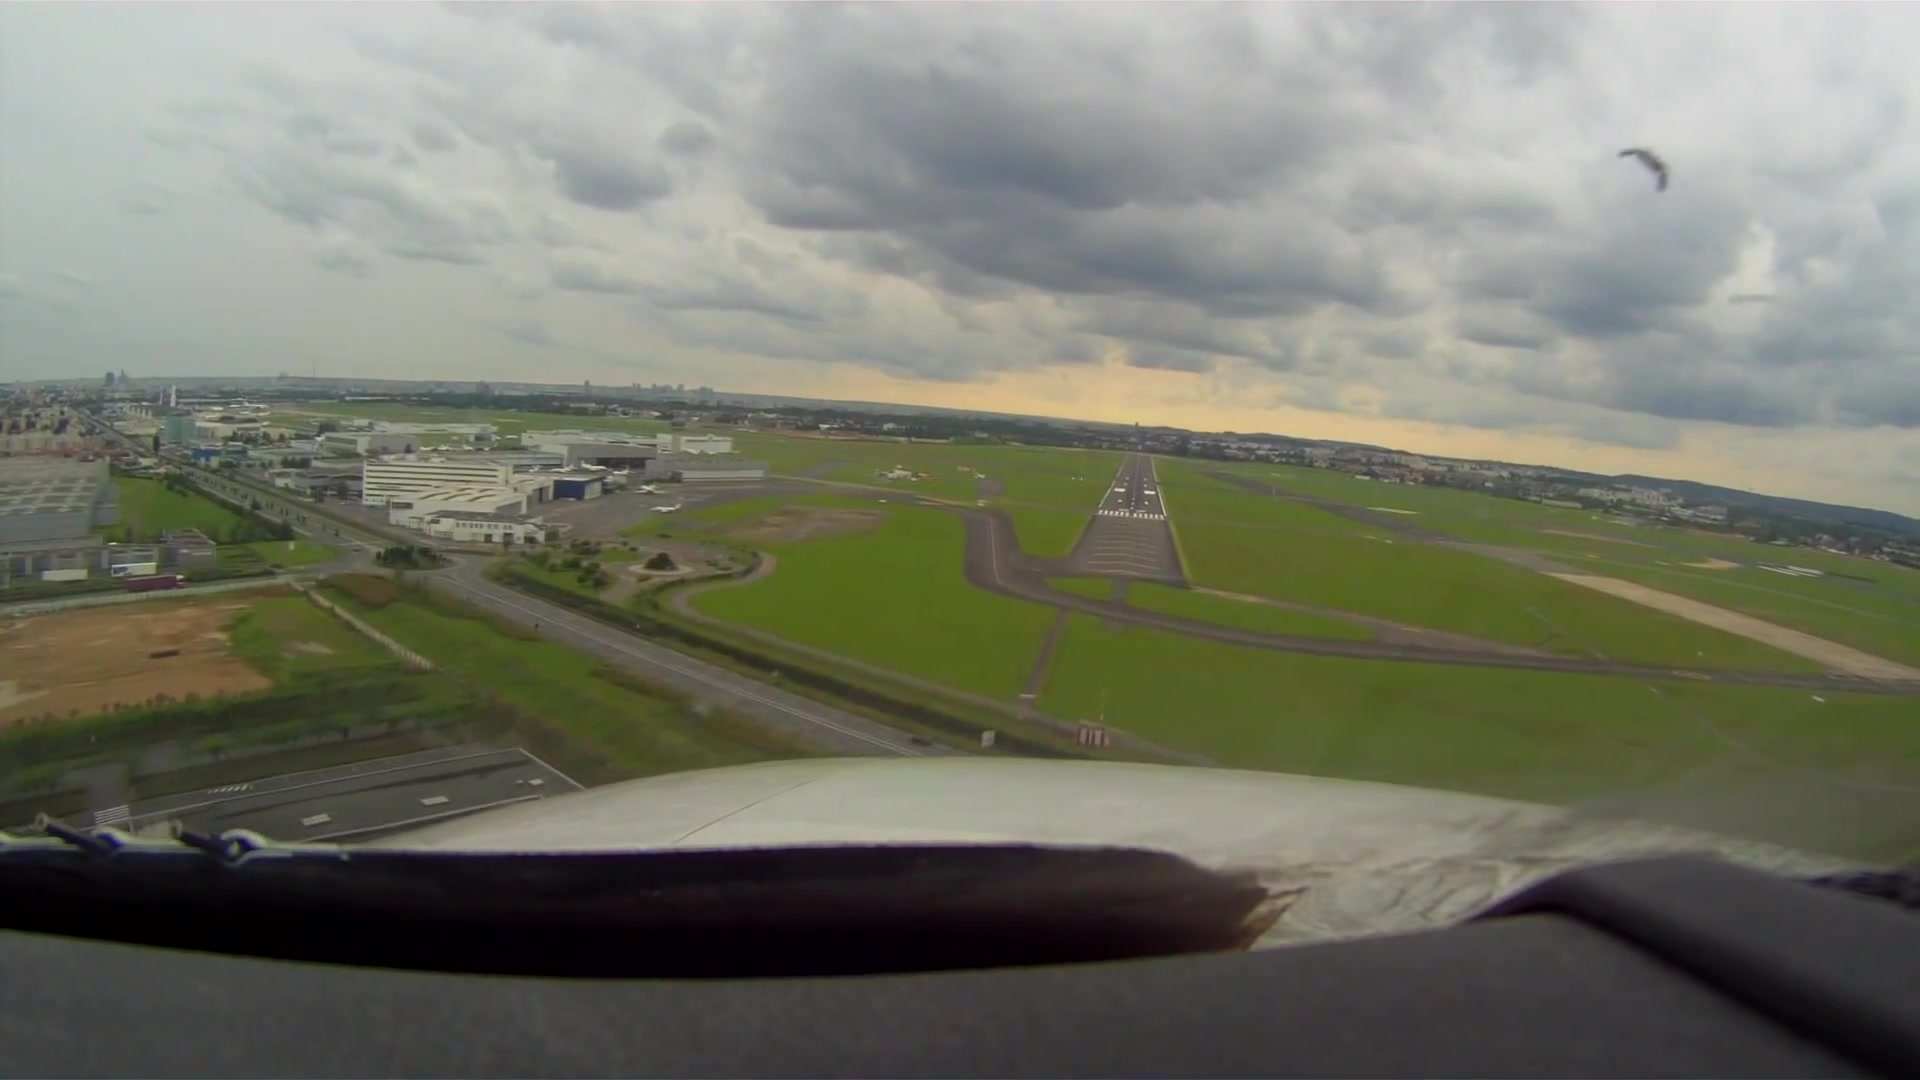entrance: (1098, 508, 1164, 520)
runway: (1092, 447, 1164, 525)
